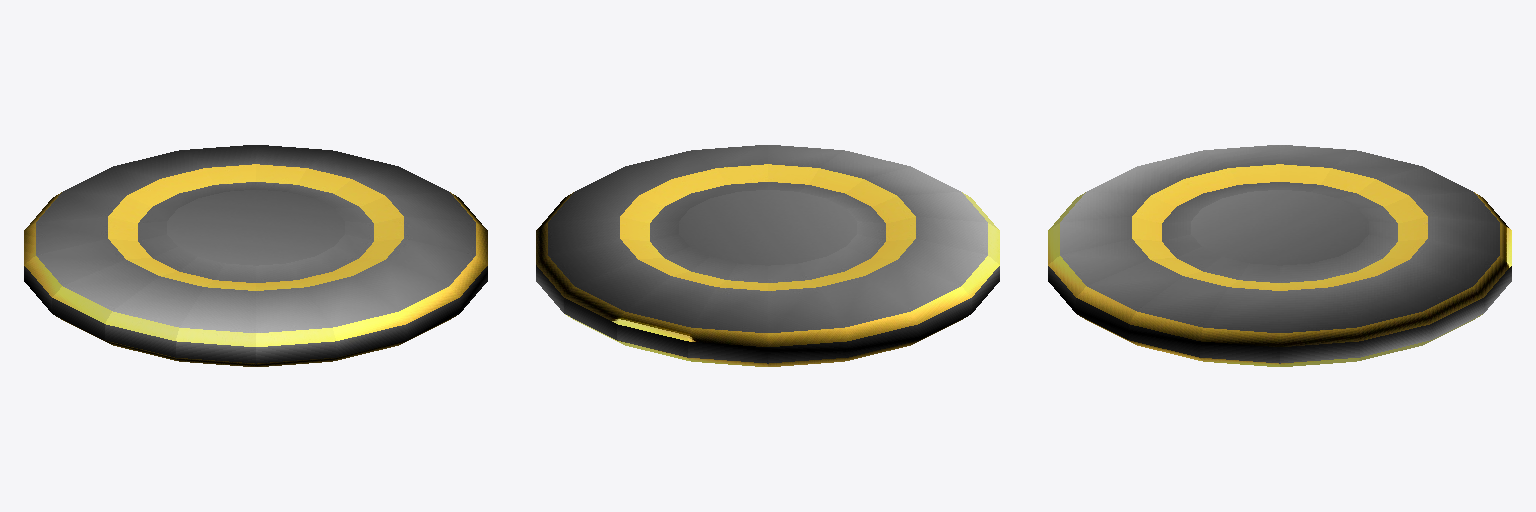
3 views of the same model, side by side, from view 1: azimuth 30°, elevation 25°; view 2: azimuth 150°, elevation 25°; view 3: azimuth 270°, elevation 25° (orthographic).
Parts seen in each view (by area): view 1: puck; view 2: puck; view 3: puck.
Part boxes in pixels (bbox=[...]): puck: bbox=[24, 145, 487, 366]; puck: bbox=[536, 145, 999, 366]; puck: bbox=[1048, 145, 1511, 366].
Size of the model in its own units: 5.6 by 0.7443 by 5.52.
1 materials, 1 textured.